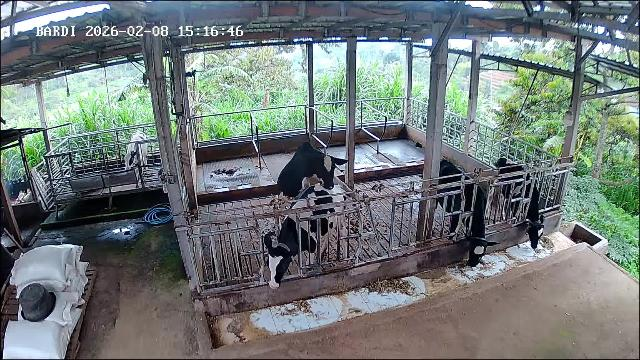mounting: (270, 142, 361, 224)
